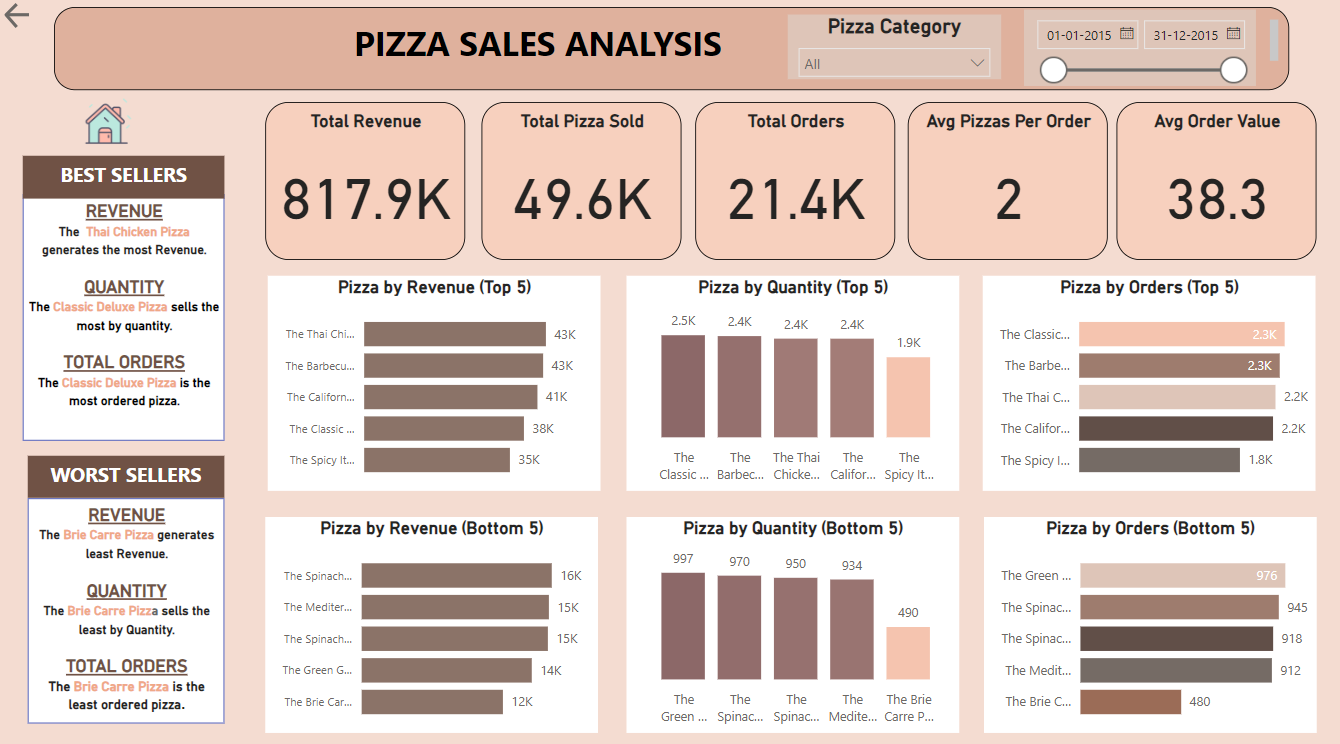

This screenshot's page, from the dashboard's own definition file:
{"tool":"powerbi","page":{"name":"Best / Worst Sellers","canvas":[1280,720],"ordinal":2},"visuals":[{"type":"textbox","box":[52.1,13.7,1176,79.6],"z":0},{"type":"slicer","title":"Pizza Category","fields":{"Values":["pizza_sales.pizza_category"]},"box":[750.6,22,203.1,61.7],"z":1000},{"type":"card","title":"Total Pizza Sold","fields":{"Values":["ALL DAX PIZZA.Total Pizza Sold"]},"box":[459.5,104.9,190.6,150.8],"z":2000},{"type":"card","title":"Total Orders","fields":{"Values":["ALL DAX PIZZA.Total Orders"]},"box":[663.3,104.9,190.6,150.8],"z":3000},{"type":"card","title":"Avg Pizzas Per Order","fields":{"Values":["ALL DAX PIZZA.Avg Pizzas Per Order"]},"box":[864.7,104.9,190.6,150.8],"z":4000},{"type":"card","title":"Avg Order Value","fields":{"Values":["ALL DAX PIZZA.Avg Order Value"]},"box":[1063.7,104.9,190.6,150.8],"z":5000},{"type":"slicer","fields":{"Values":["pizza_sales.order_date"]},"box":[975.6,16.5,220.9,72.7],"z":6000},{"type":"textbox","box":[22.9,192.8,191.7,234.7],"z":6000,"group":"g1"},{"type":"textbox","box":[22.9,155.6,191.7,40.7],"z":7000,"group":"g1"},{"type":"clusteredBarChart","title":"Pizza by Revenue (Top 5)","fields":{"Y":["ALL DAX PIZZA.Total Revenue"],"Category":["pizza_sales.pizza_name"]},"box":[255.7,270.2,317.2,205],"z":7000},{"type":"clusteredBarChart","title":"Pizza by Orders (Top 5)","fields":{"Category":["pizza_sales.pizza_name"],"Y":["ALL DAX PIZZA.Total Orders"]},"box":[937.1,270.2,317.2,205],"z":8000},{"type":"textbox","box":[27.5,481.6,186.9,214.3],"z":8000,"group":"g1"},{"type":"clusteredColumnChart","title":"Pizza by Quantity (Top 5)","fields":{"Category":["pizza_sales.pizza_name"],"Y":["Sum(pizza_sales.quantity)"]},"box":[597,270.2,317.2,205],"z":9000},{"type":"textbox","box":[27.5,440.8,186.9,40.3],"z":9000,"group":"g1"},{"type":"clusteredBarChart","title":"Pizza by Revenue (Bottom 5)","fields":{"Y":["ALL DAX PIZZA.Total Revenue"],"Category":["pizza_sales.pizza_name"]},"box":[253.9,499.5,317,205.8],"z":10000},{"type":"clusteredColumnChart","title":"Pizza by Quantity (Bottom 5)","fields":{"Category":["pizza_sales.pizza_name"],"Y":["Sum(pizza_sales.quantity)"]},"box":[596.9,499.5,317,205.8],"z":11000},{"type":"clusteredBarChart","title":"Pizza by Orders (Bottom 5)","fields":{"Category":["pizza_sales.pizza_name"],"Y":["ALL DAX PIZZA.Total Orders"]},"box":[937.2,499.5,317,205.8],"z":12000},{"type":"group","id":"g1","title":"Group 7","box":[22.9,155.6,191.8,540.3],"z":13000},{"type":"actionButton","box":[1.4,5.5,43.9,32.9],"z":14000},{"type":"image","box":[39.8,82,125.4,88],"z":15000},{"type":"card","title":"Total Revenue","fields":{"Values":["ALL DAX PIZZA.Total Revenue"]},"box":[253.3,104.9,190.6,150.8],"z":16000}]}

Visuals, with their boxes in screenshot pixels (x1, y1, x2, y2), scaled from the page's 1280x720 canvas onto the 1340x744 screenshot:
textbox: (55, 14, 1286, 96)
"Pizza Category" slicer: (786, 23, 998, 86)
"Total Pizza Sold" card: (481, 108, 681, 264)
"Total Orders" card: (694, 108, 894, 264)
"Avg Pizzas Per Order" card: (905, 108, 1105, 264)
"Avg Order Value" card: (1114, 108, 1313, 264)
slicer - pizza_sales.order_date: (1021, 17, 1253, 92)
textbox: (24, 199, 225, 442)
textbox: (24, 161, 225, 203)
"Pizza by Revenue (Top 5)" clusteredBarChart: (268, 279, 600, 491)
"Pizza by Orders (Top 5)" clusteredBarChart: (981, 279, 1313, 491)
textbox: (29, 498, 224, 719)
"Pizza by Quantity (Top 5)" clusteredColumnChart: (625, 279, 957, 491)
textbox: (29, 455, 224, 497)
"Pizza by Revenue (Bottom 5)" clusteredBarChart: (266, 516, 598, 729)
"Pizza by Quantity (Bottom 5)" clusteredColumnChart: (625, 516, 957, 729)
"Pizza by Orders (Bottom 5)" clusteredBarChart: (981, 516, 1313, 729)
"Group 7" group: (24, 161, 225, 719)
actionButton: (1, 6, 47, 40)
image: (42, 85, 173, 176)
"Total Revenue" card: (265, 108, 465, 264)
